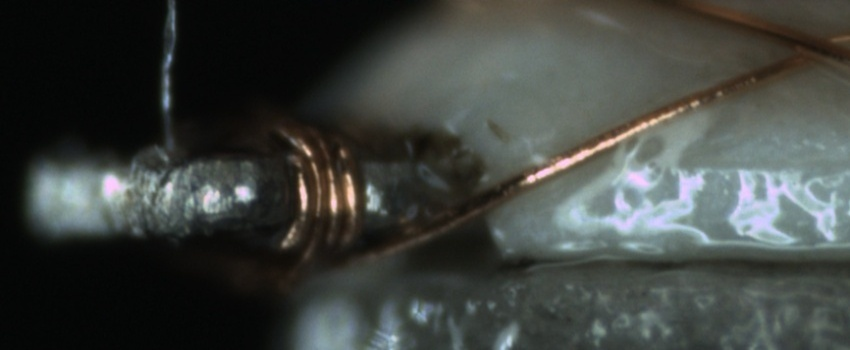CL: (768, 25, 844, 75)
TE: (259, 94, 368, 270)
